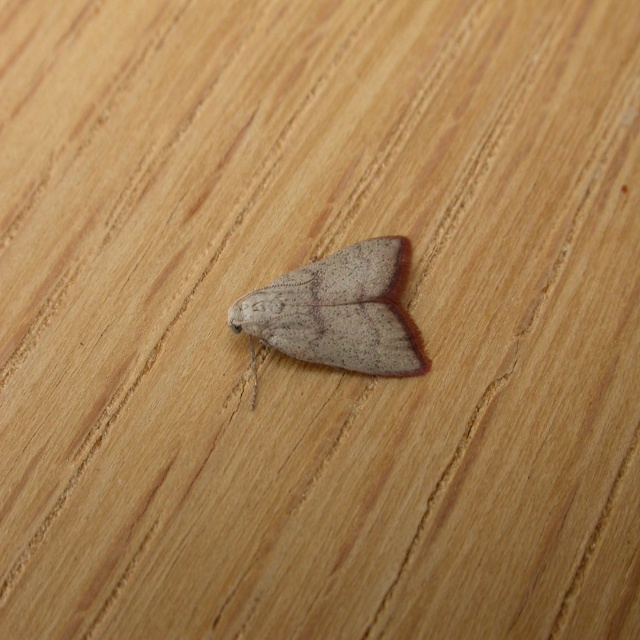Moths and butterflies: (228, 232, 436, 413)
